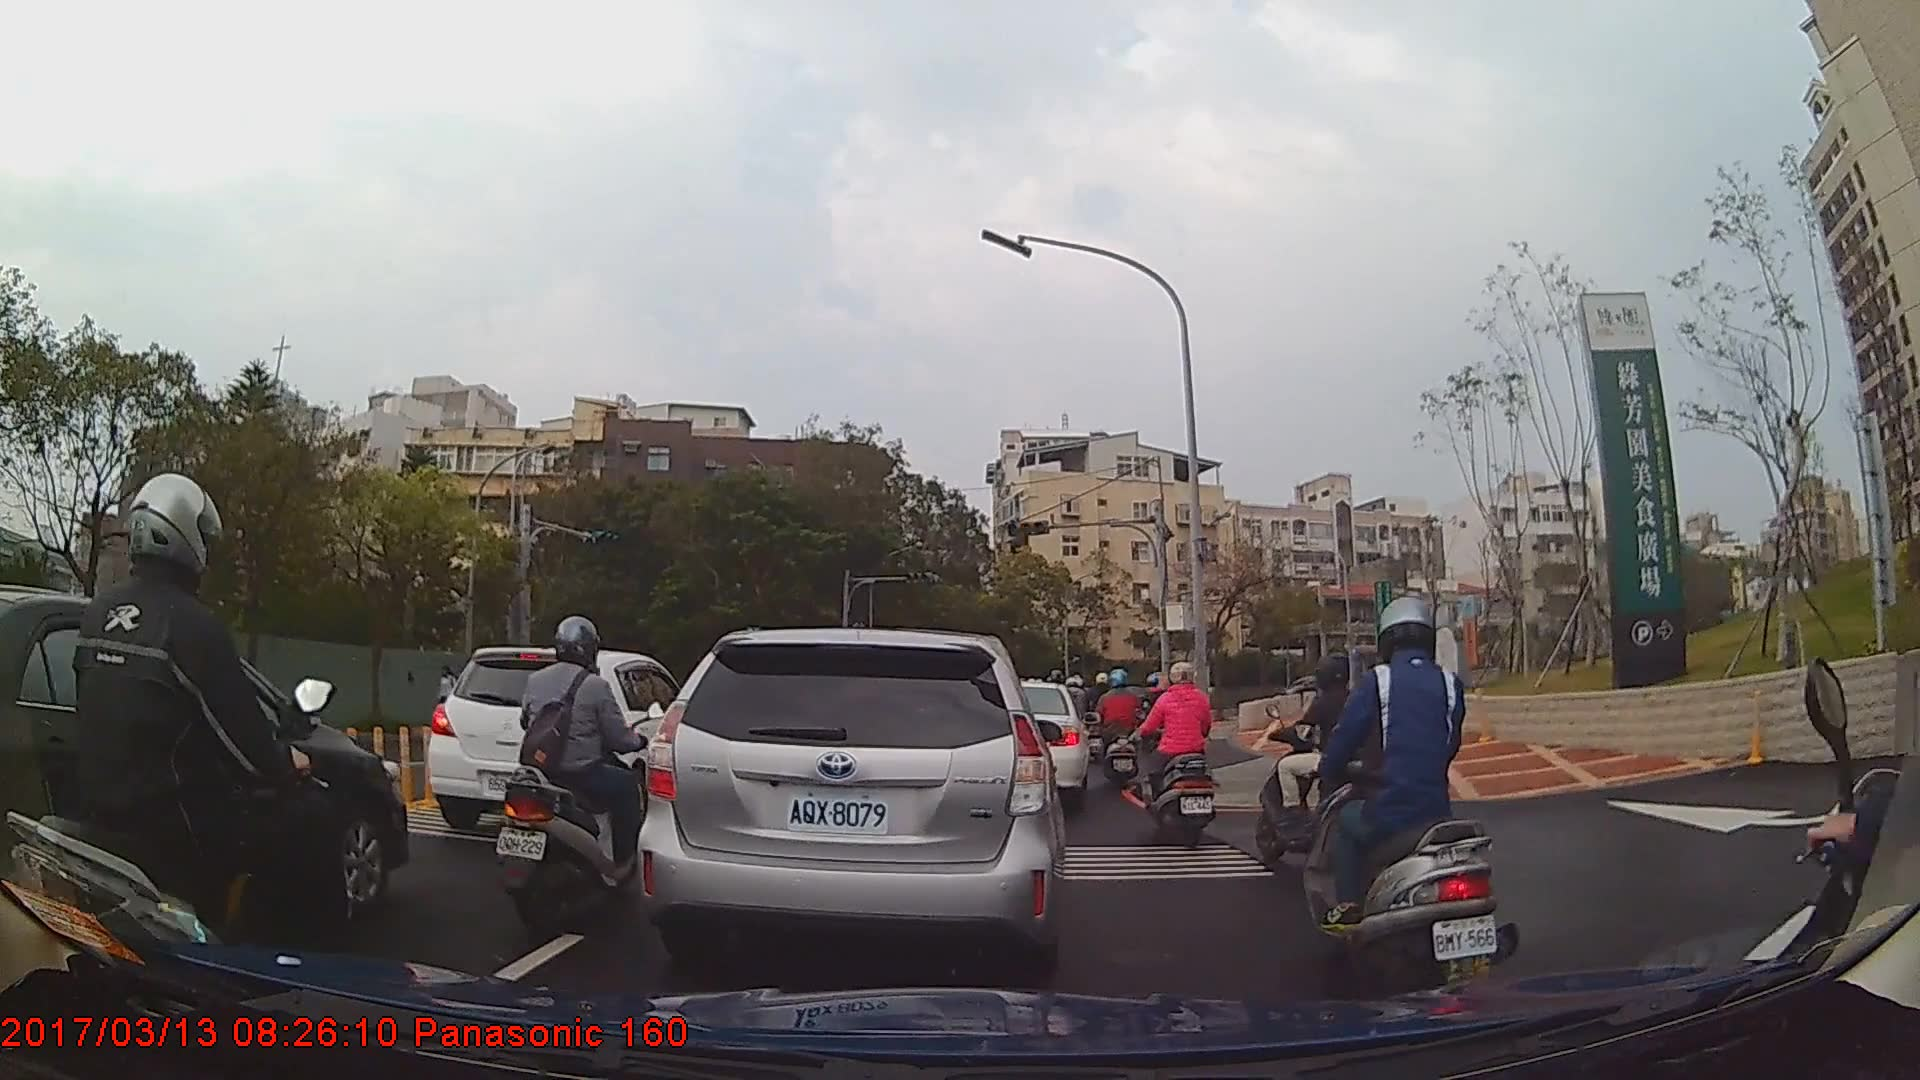pedestrian: (440, 664, 460, 726)
rider: (10, 470, 358, 1040), (1299, 599, 1519, 1018), (495, 619, 657, 932), (1251, 653, 1426, 869), (1144, 663, 1215, 854), (1091, 667, 1146, 788)
vehicle: (633, 626, 1065, 986), (0, 581, 408, 941), (424, 646, 699, 837), (981, 682, 1089, 805)
